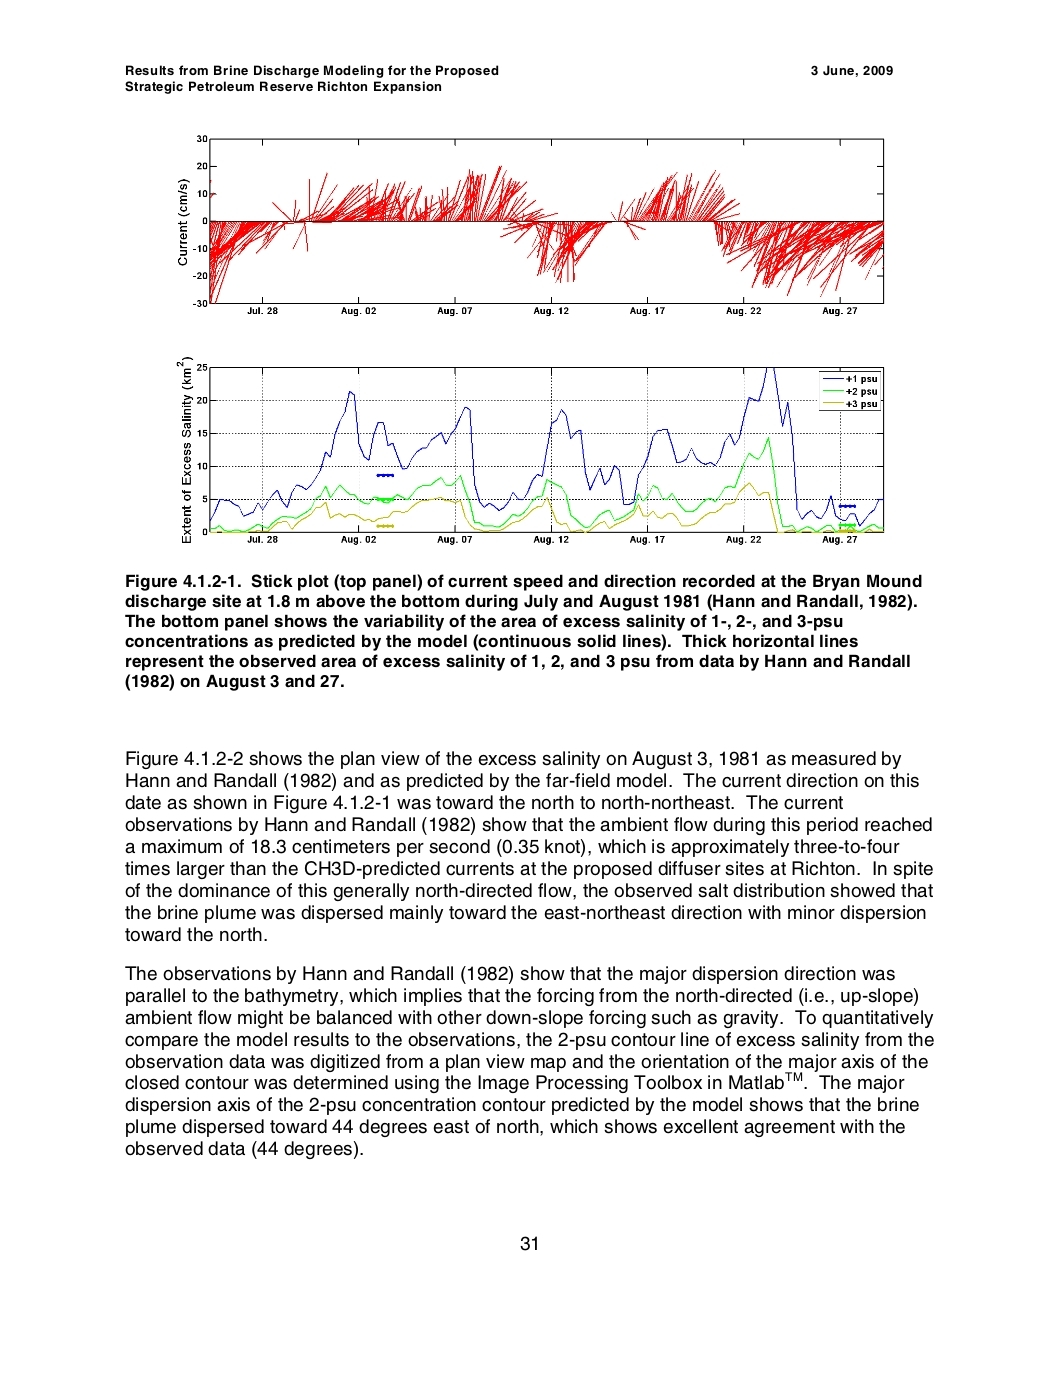figure: (176, 357, 884, 544), (178, 134, 884, 317)
